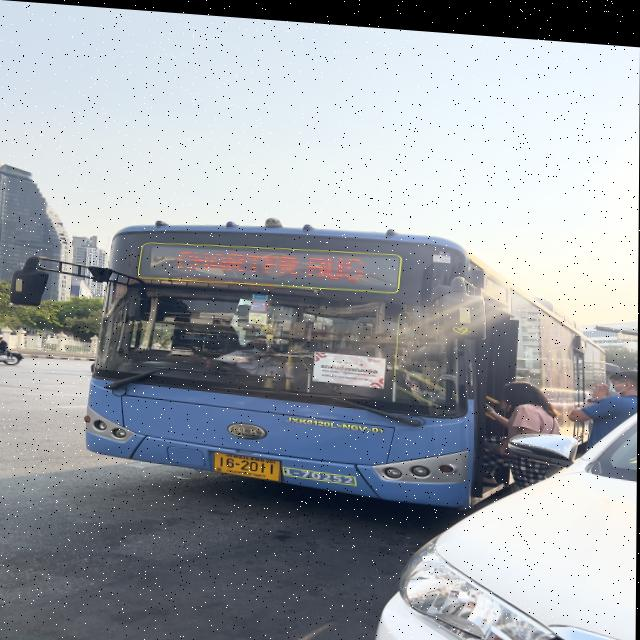BMTA-bus: (84, 220, 583, 504)
Bus Side Number: (282, 462, 358, 482)
